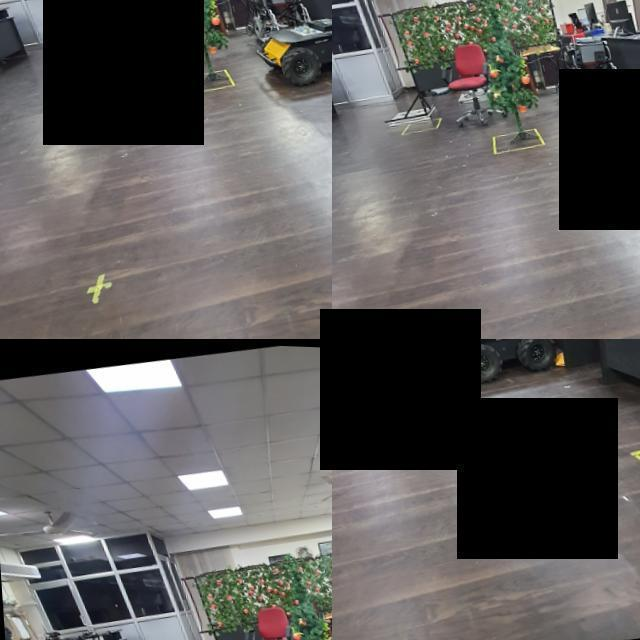tree: (457, 0, 552, 145), (174, 0, 246, 106), (275, 553, 331, 640)
